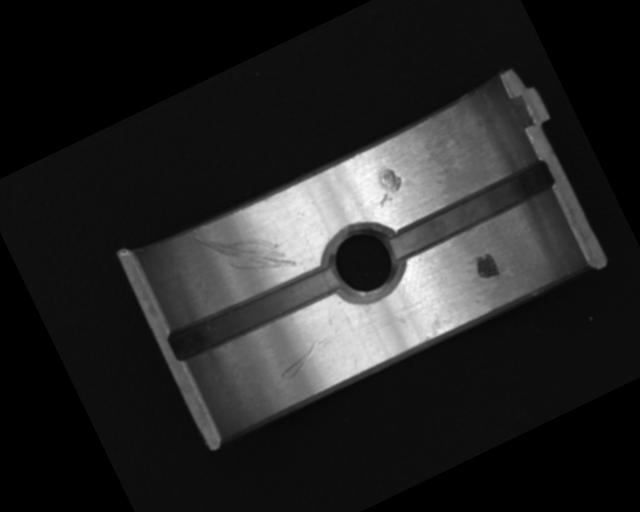blot: (471, 250, 502, 284)
bruise: (367, 164, 409, 207)
gap: (163, 255, 344, 369), (385, 159, 556, 264)
hole: (313, 209, 417, 313)
nick: (192, 202, 298, 301), (273, 333, 336, 383)
